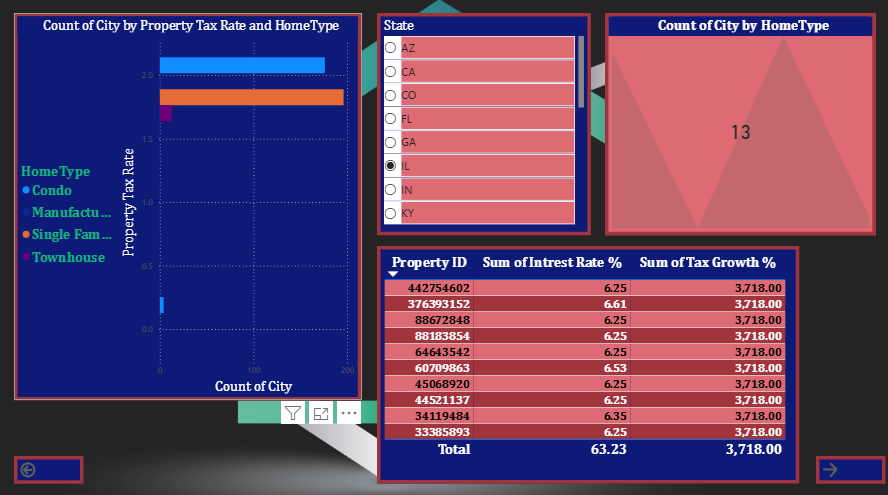

The dashboard page shown, as its layout file describes it:
{"tool":"powerbi","page":{"name":"PROPRTY & TAX INSIGHTS","canvas":[1280,720],"ordinal":2},"visuals":[{"type":"clusteredBarChart","fields":{"Category":["FACT_PropertyListings.Property Tax Rate"],"Series":["FACT_PropertyListings.HomeType"],"Y":["CountNonNull(FACT_PropertyListings.City)"]},"box":[22,24,500,558],"z":0},{"type":"listSlicer","fields":{"Values":["FACT_PropertyListings.State"]},"box":[544,24,308,320],"z":1000},{"type":"kpi","fields":{"Indicator":["CountNonNull(FACT_PropertyListings.City)"],"TrendLine":["FACT_PropertyListings.HomeType"]},"box":[872.6,24.5,390.2,319.7],"z":2000},{"type":"tableEx","fields":{"Values":["DIM_MortgageRates.Property ID","Sum(DIM_MortgageRates.Intrest Rate %)","Sum(DIM_PropertyTax.Tax Growth %)"]},"box":[544,360,608,342],"z":3000},{"type":"actionButton","box":[22,662,100,40],"z":4000},{"type":"actionButton","box":[1176,662,100,40],"z":5000}]}

Visuals, with their boxes in screenshot pixels (x1, y1, x2, y2), scaled from the page's 1280x720 canvas onto the 888x495 screenshot:
clusteredBarChart - FACT_PropertyListings.Property Tax Rate x FACT_PropertyListings.HomeType: box(15, 16, 362, 400)
listSlicer - FACT_PropertyListings.State: box(377, 16, 591, 236)
kpi - CountNonNull(FACT_PropertyListings.City) x FACT_PropertyListings.HomeType: box(605, 17, 876, 237)
tableEx - DIM_MortgageRates.Property ID x Sum(DIM_MortgageRates.Intrest Rate %): box(377, 248, 799, 483)
actionButton: box(15, 455, 85, 483)
actionButton: box(816, 455, 885, 483)
